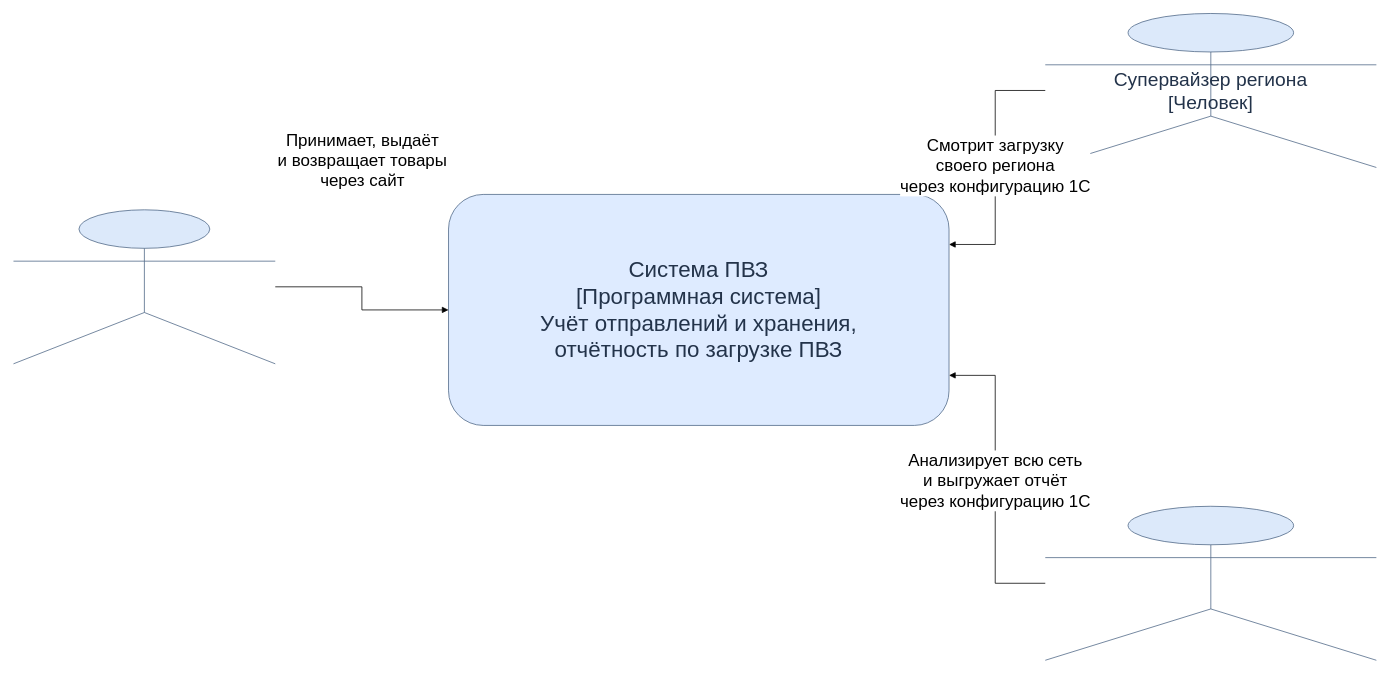
This 1390x674 diagram has some shape labels left out. The shapes that lost their labels are listed below. From the top down, each one's box as (x1, y1, x2, y2) in pixels, then its label:
(13, 209, 275, 364): Сотрудник ПВЗ [Человек]
(1045, 506, 1376, 660): Операционный аналитик сети [Человек]
